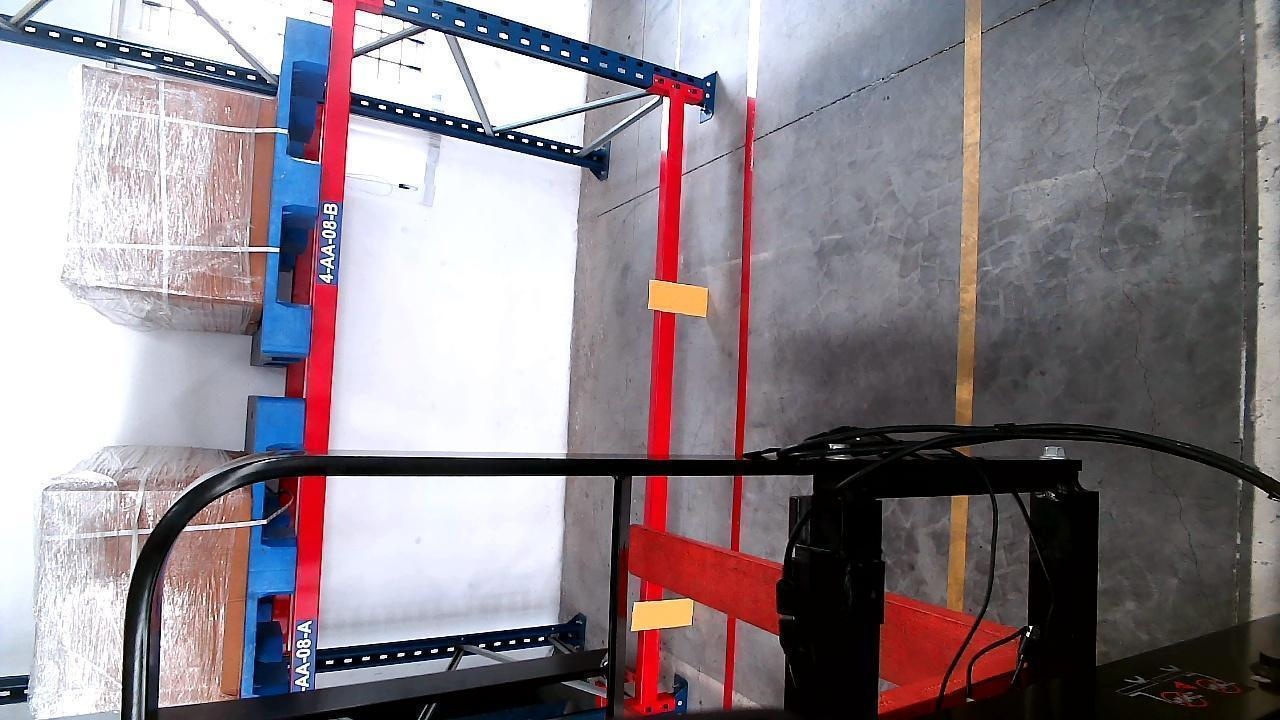red_line: (721, 86, 756, 707)
yellow_line: (947, 1, 983, 614)
